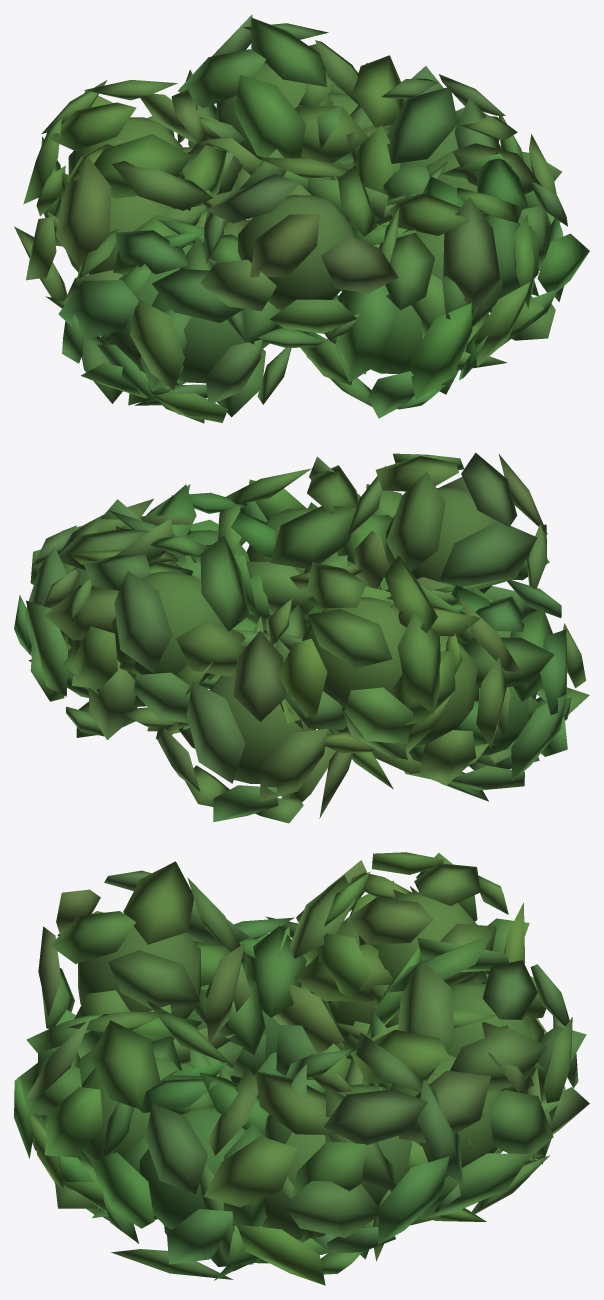
File: bush.glb
3 renders of one model, top to bottom at view 1: azimuth 30°, elevation 25°; view 2: azimuth 150°, elevation 25°; view 3: azimuth 270°, elevation 25°, orthographic. The views are drawn at different scales.
Visible parts, largest first — view 1: bush_Painted jade foliage; view 2: bush_Painted jade foliage; view 3: bush_Painted jade foliage.
Part boxes in pixels (<box>): bush_Painted jade foliage: <box>14,14,589,423</box>; bush_Painted jade foliage: <box>14,452,589,823</box>; bush_Painted jade foliage: <box>14,852,589,1285</box>.
Size of the model in its own units: 1.24 by 0.6359 by 1.12.
